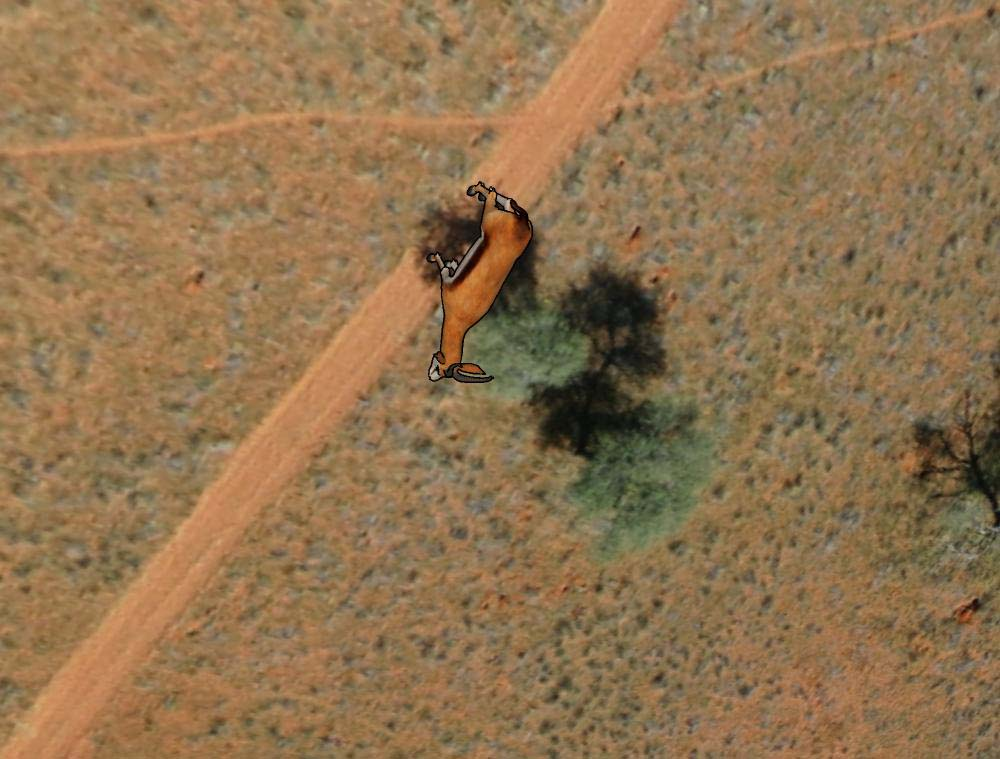springbok: (412, 169, 537, 387)
